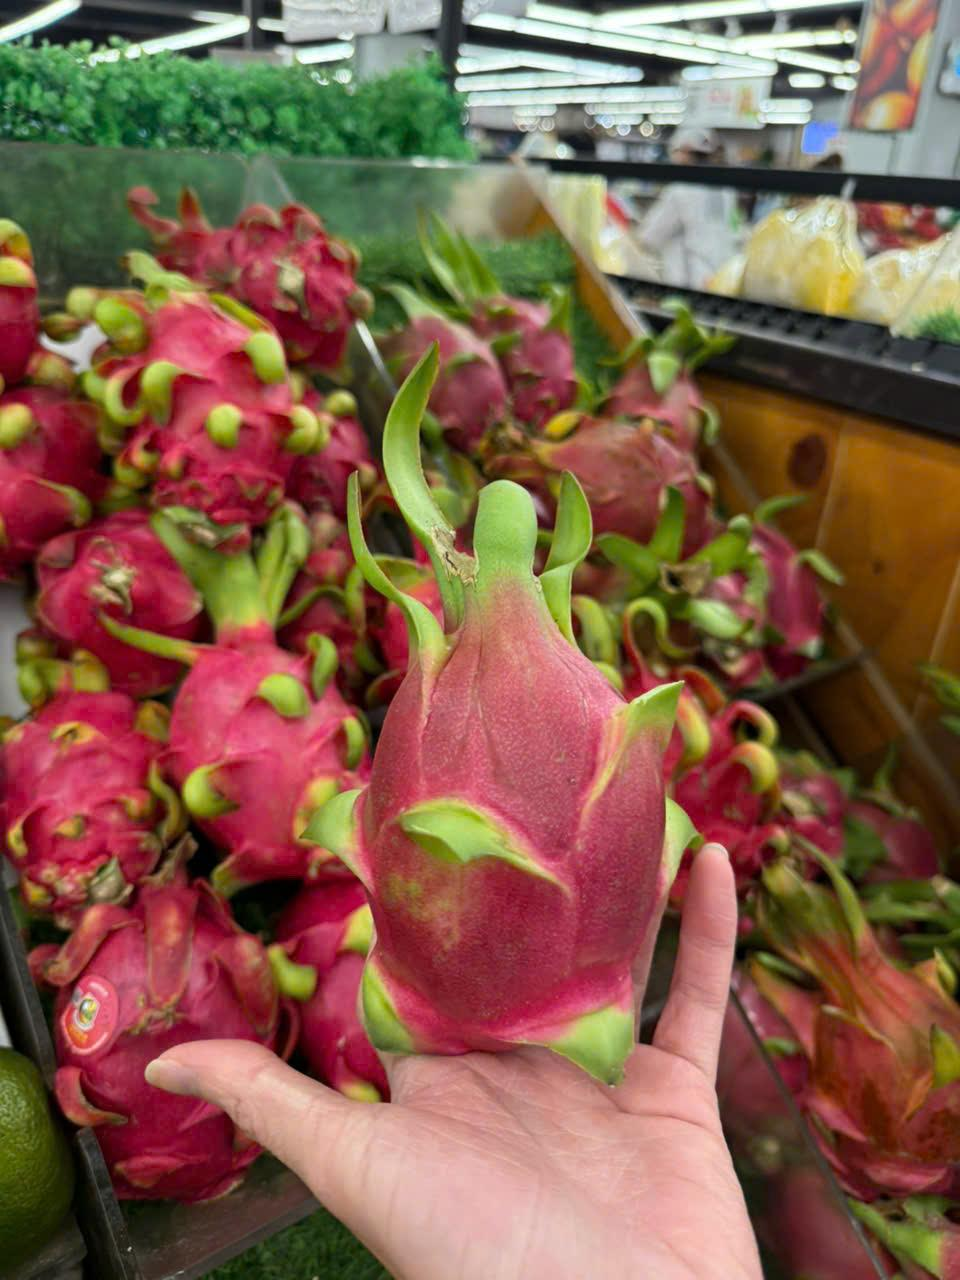dragon fruit: (328, 343, 688, 1114), (120, 518, 382, 872), (47, 863, 284, 1209), (85, 256, 301, 510), (125, 175, 366, 360), (0, 636, 164, 890)
